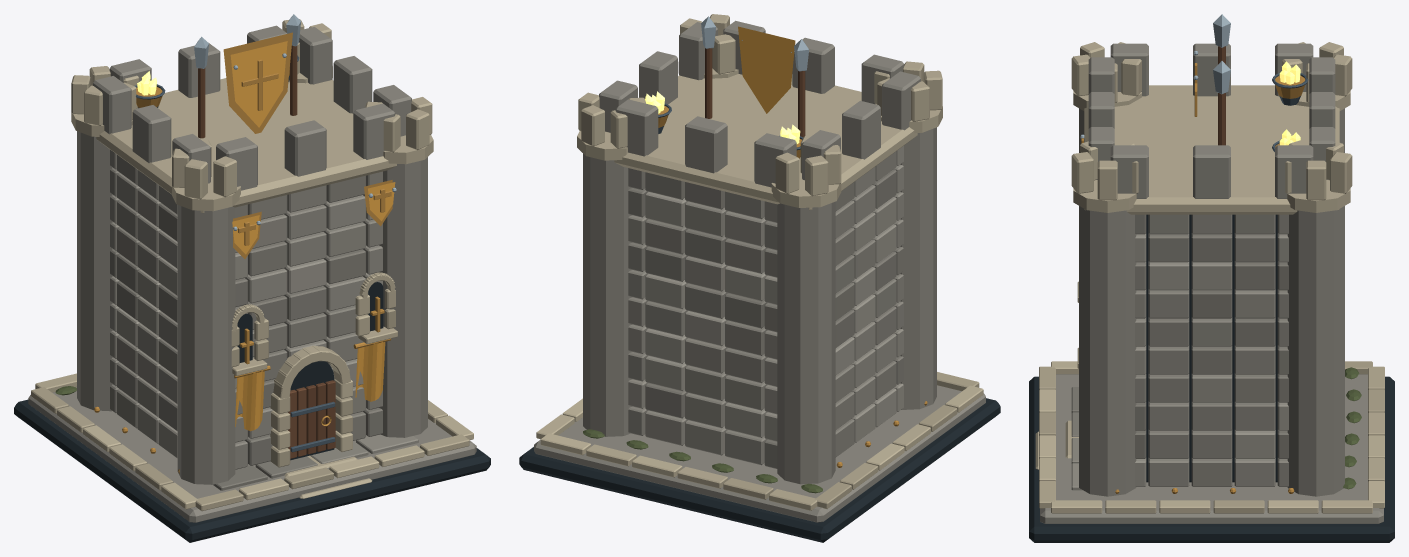
File: militia__guardiao__L20.glb
3 renders of one model, left to right at view 1: azimuth 30°, elevation 25°; view 2: azimuth 150°, elevation 25°; view 3: azimuth 270°, elevation 25°, orthographic. The views are drawn at different scales.
Parts seen in each view (by area): view 1: structure, weapon, banners; view 2: structure, weapon; view 3: structure, weapon, effects.
Part boxes in pixels (x1,y1,x2,y2): structure: [14, 19, 490, 542]; weapon: [194, 14, 301, 138]; banners: [234, 338, 391, 431]; structure: [519, 14, 1000, 542]; weapon: [701, 16, 808, 137]; structure: [1029, 42, 1394, 542]; weapon: [1193, 14, 1230, 145]; effects: [1279, 61, 1300, 145].
Size of the model in its own units: 0.803 by 1.04 by 0.803.
